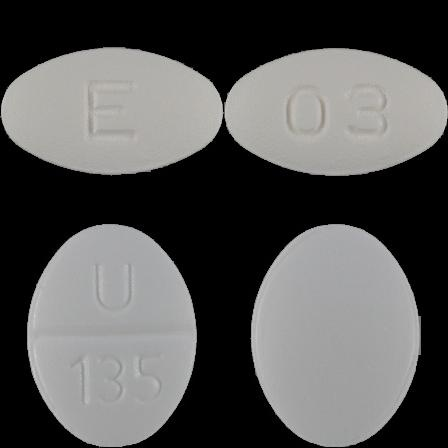0615-7945: (0, 0, 224, 224)
